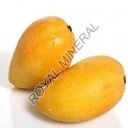mango: (8, 16, 76, 90)
